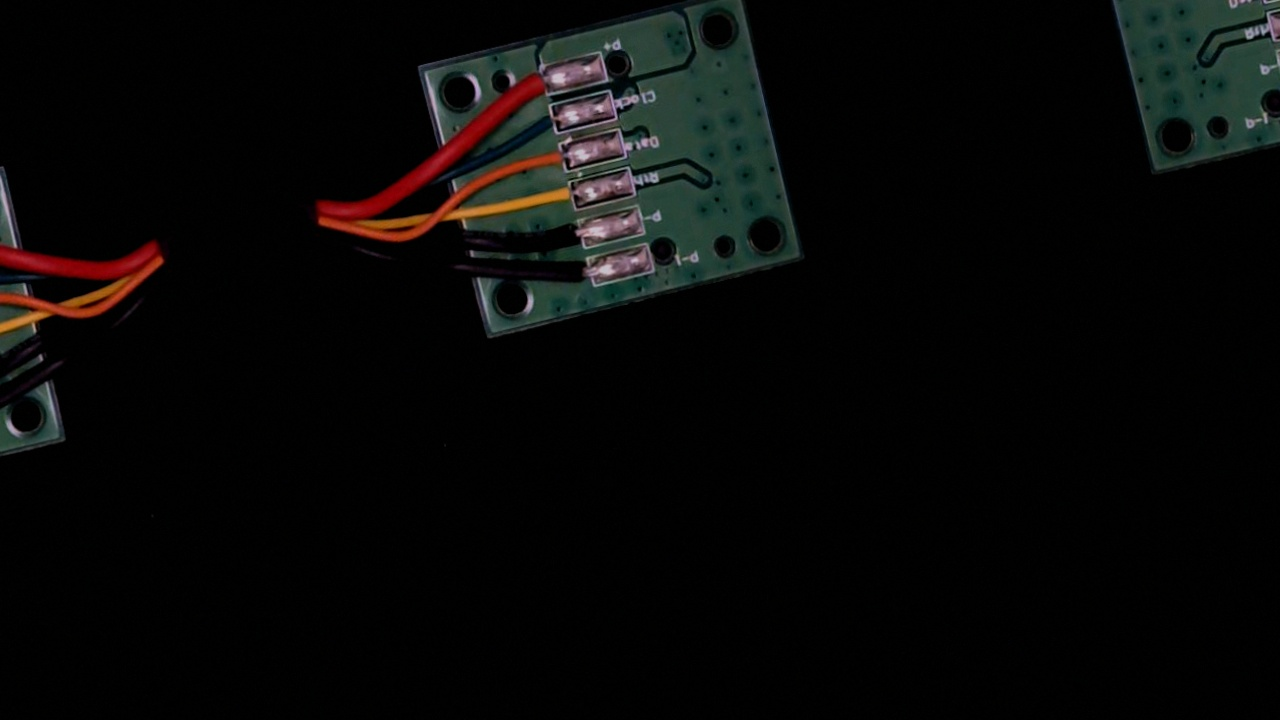Black: (527, 212, 600, 261)
Black1: (543, 255, 610, 299)
Green: (499, 96, 576, 147)
Orange: (506, 137, 584, 186)
Red: (487, 61, 564, 111)
Yellow: (525, 175, 593, 221)
